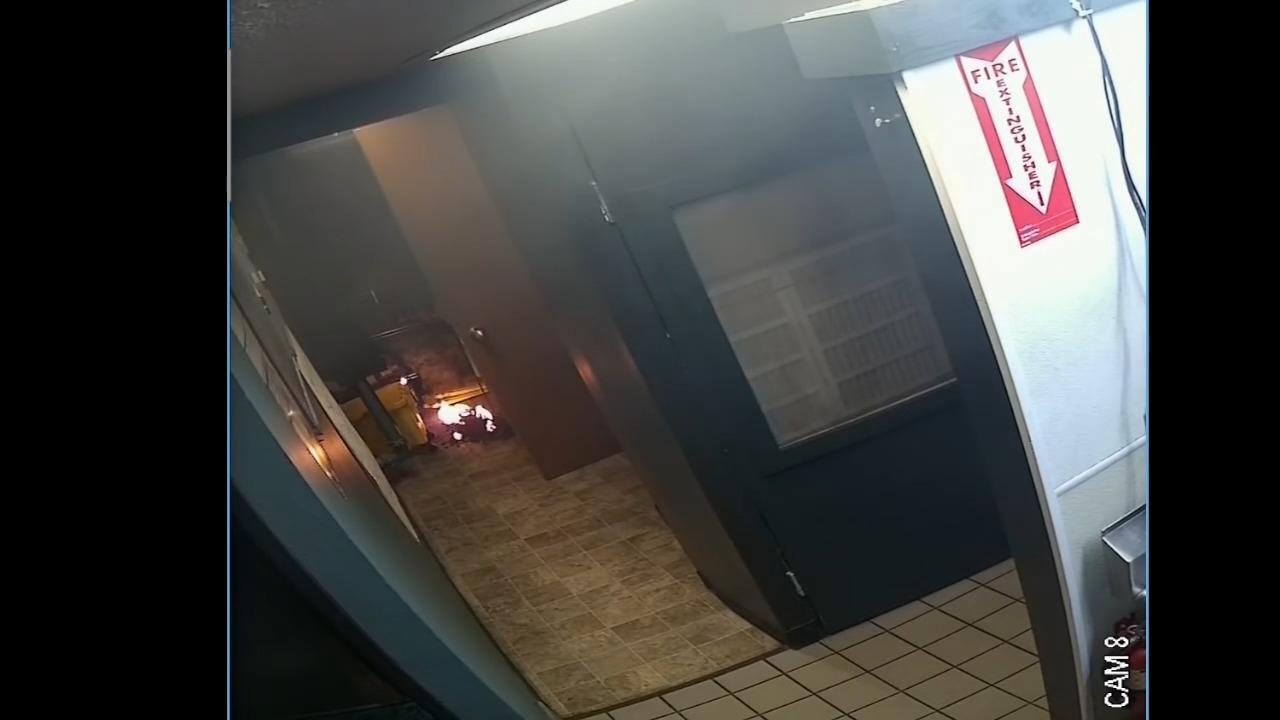fire: (438, 400, 496, 440)
